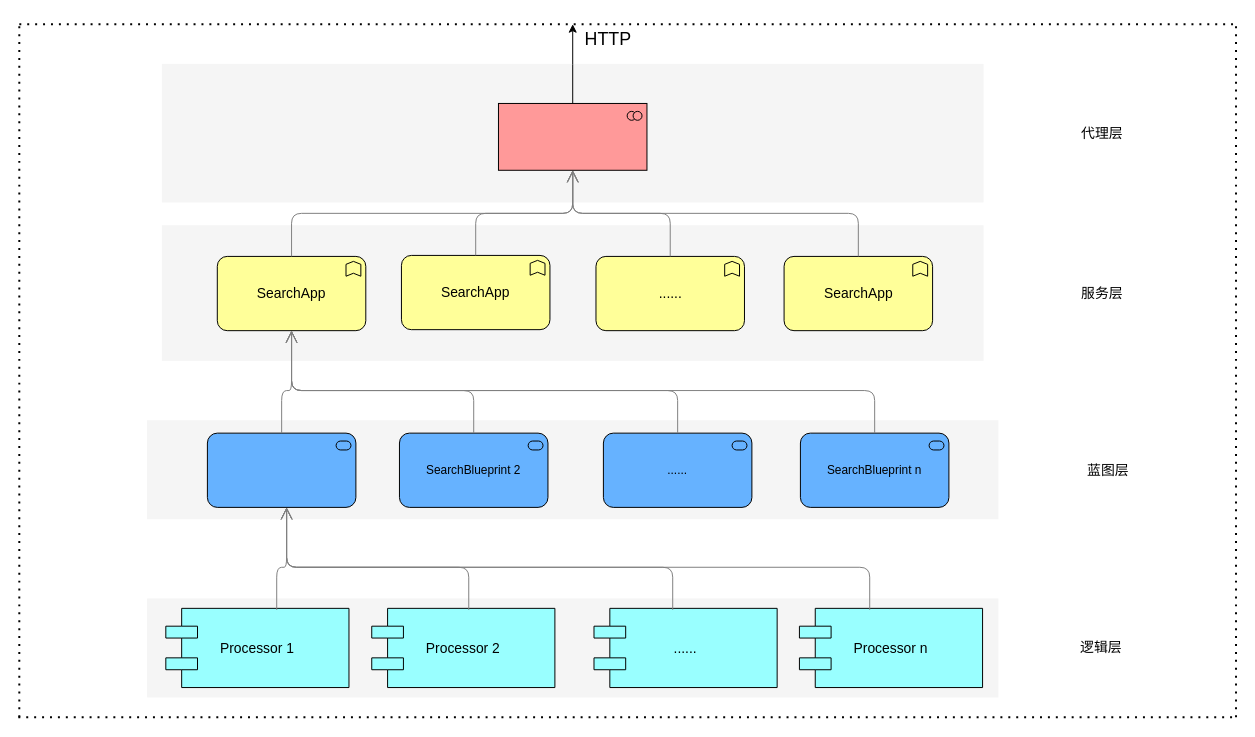
Image size: 1255x737. Some labels were removed from this diagram. Here are the shapes that lost their labels. From the top down, the box of each, then its label:
(497, 102, 647, 170): Gunicorn
(206, 432, 356, 507): SearchBlueprint 1
